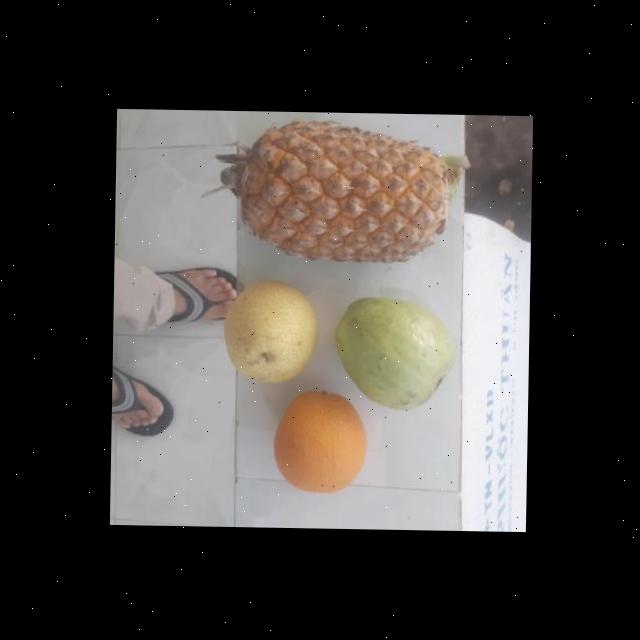guava: (337, 288, 458, 411)
orange: (274, 386, 367, 493)
pear: (225, 275, 316, 384)
pineapple: (247, 119, 446, 265)
